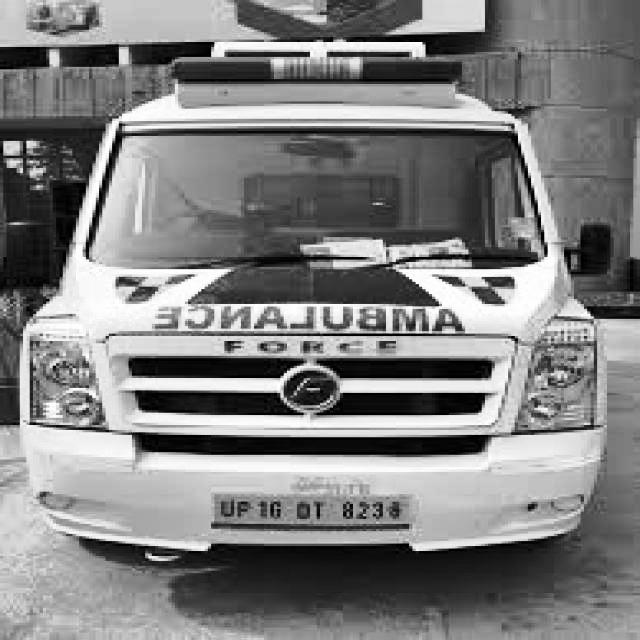LCV: (23, 41, 610, 549)
